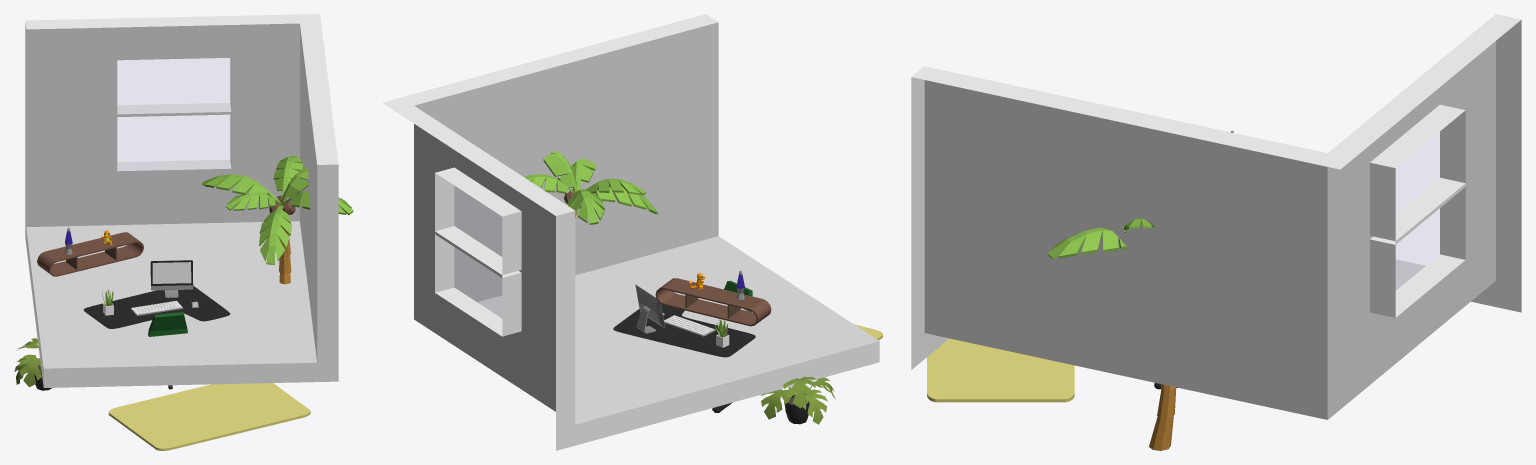
File: scene_old.gltf
3 views of the same model, side by side, from view 1: azimuth 30°, elevation 25°; view 2: azimuth 150°, elevation 25°; view 3: azimuth 270°, elevation 25° (orthographic). The views are drawn at different scales.
Visible parts, largest first — view 1: Screen, WawaRug, palm_tree_01, Desk, SM_Shelf:SM_Shelf1, iMac, Houseplant_7, Chair, keyboard; view 2: Screen, palm_tree_01, SM_Shelf:SM_Shelf1, Desk, Houseplant_7, iMac, keyboard; view 3: Screen, WawaRug, palm_tree_01.
Boxes of the visible parts, left/top/right/bottom form: Screen: left=25, top=14, right=338, bottom=387; WawaRug: left=108, top=383, right=310, bottom=450; palm_tree_01: left=201, top=156, right=353, bottom=284; Desk: left=83, top=286, right=230, bottom=328; SM_Shelf:SM_Shelf1: left=37, top=232, right=143, bottom=276; iMac: left=150, top=260, right=193, bottom=297; Houseplant_7: left=14, top=338, right=51, bottom=390; Chair: left=148, top=312, right=187, bottom=389; keyboard: left=130, top=301, right=183, bottom=315; Screen: left=382, top=14, right=879, bottom=450; palm_tree_01: left=524, top=151, right=658, bottom=224; SM_Shelf:SM_Shelf1: left=655, top=278, right=771, bottom=326; Desk: left=613, top=304, right=755, bottom=412; Houseplant_7: left=761, top=376, right=835, bottom=424; iMac: left=635, top=285, right=665, bottom=333; keyboard: left=664, top=315, right=715, bottom=336; Screen: left=911, top=14, right=1521, bottom=419; WawaRug: left=927, top=338, right=1074, bottom=402; palm_tree_01: left=1047, top=218, right=1176, bottom=450.
Size of the model in its own units: 6.82 by 4.52 by 7.25.
